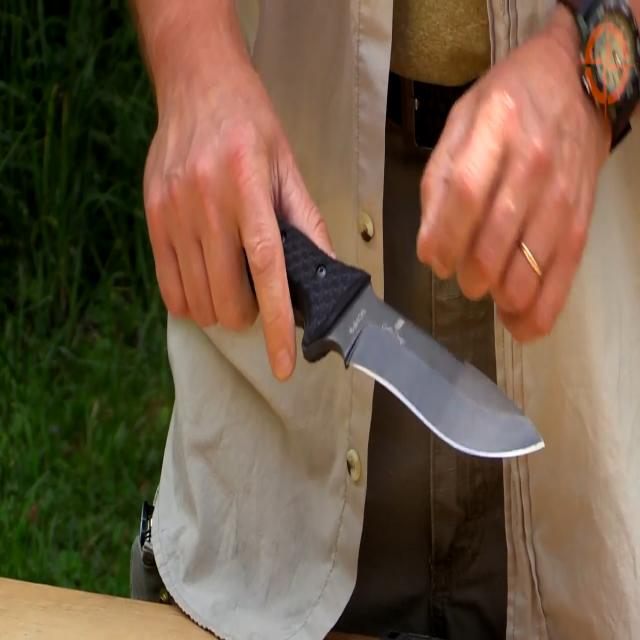knife: (291, 222, 549, 482)
